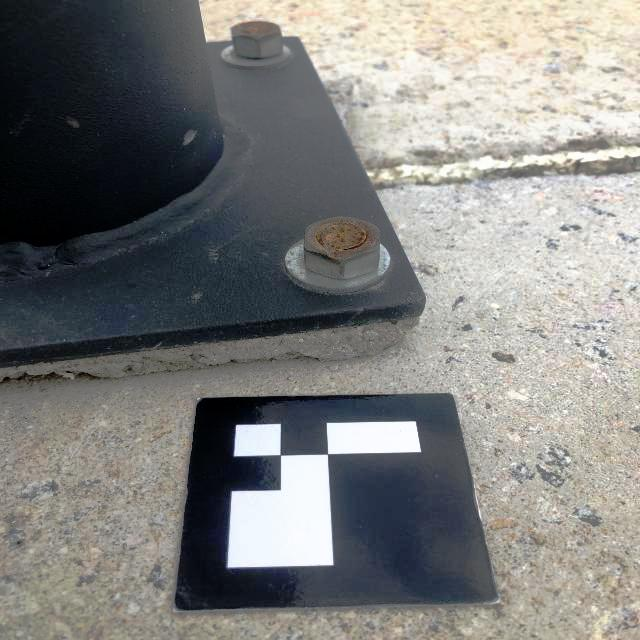Corrosion: (306, 217, 380, 259), (234, 22, 278, 38)
